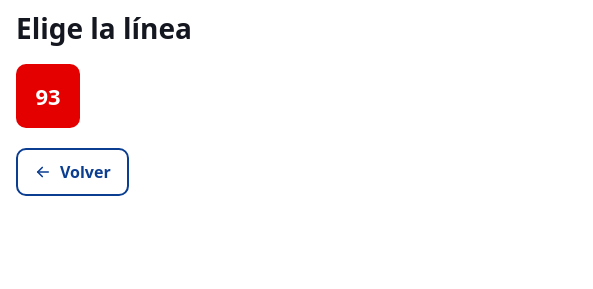
Test: ServicePicker › [driver_ui.AC-02] offers the two directions by headsign and "Volver" returns to the lines
The image size is (593, 289).
Later steps or results of the test are not shown.
Step 1. Click the button named "Línea 93" → (48, 96), box [16, 64, 80, 128]
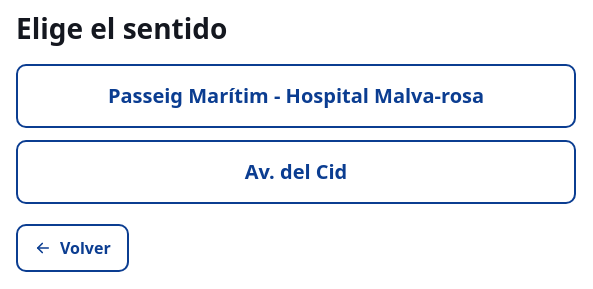
expect the button "Av. del Cid" is shown: met, box [16, 140, 576, 204]
